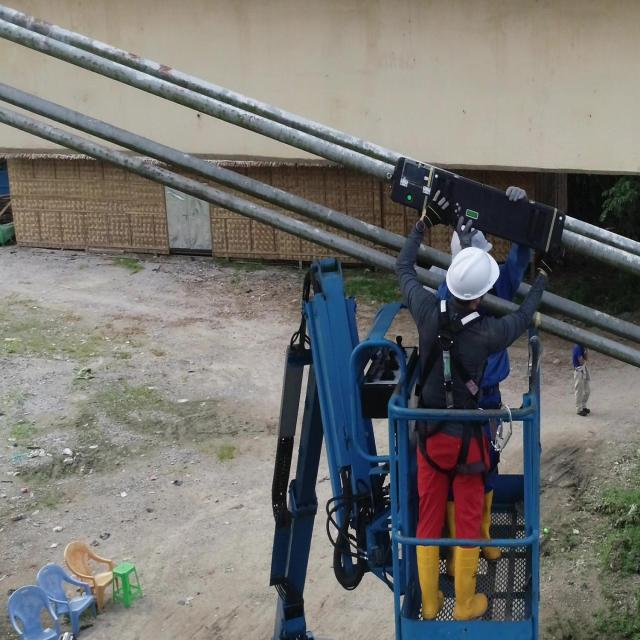corrosion: (34, 17, 52, 34), (15, 13, 31, 27), (158, 64, 172, 79), (127, 53, 139, 66)
